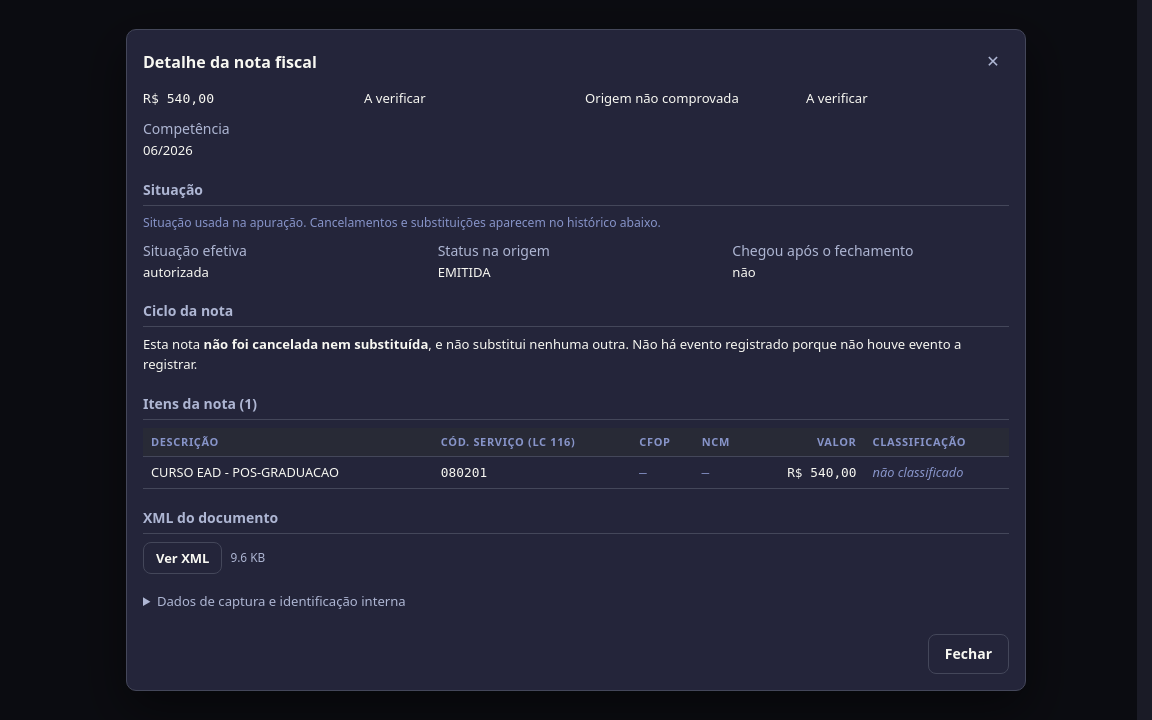
Test: detalhe da nota — ausência nunca é resposta › mostra a íntegra: itens com descrição e código, e o XML bruto atrás de um botão
(page scrolled)
expect the text "CURSO EAD - POS-GRADUACAO" is shown: met, box [143,457,433,489]
expect the text "080201" is shown: met, box [433,457,631,489]
What coordinates should you click on to do the following:
click the button "Ver XML"
I would click on:
 (183, 558)
Its box is [143,542,222,574].
(page scrolled)
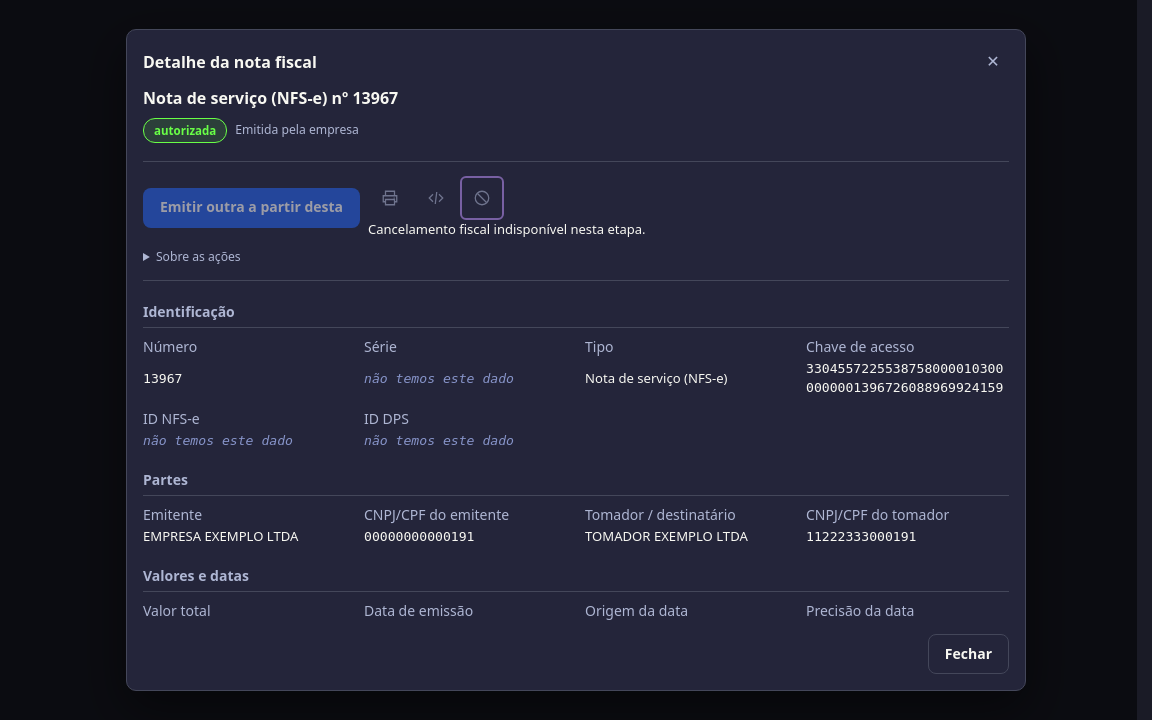
expect the button named "Baixar XML" is shown: met, box [414,176,458,220]
